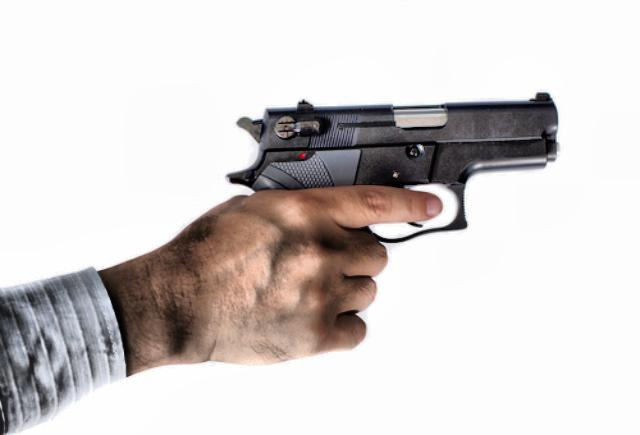pistol: (224, 92, 562, 244)
